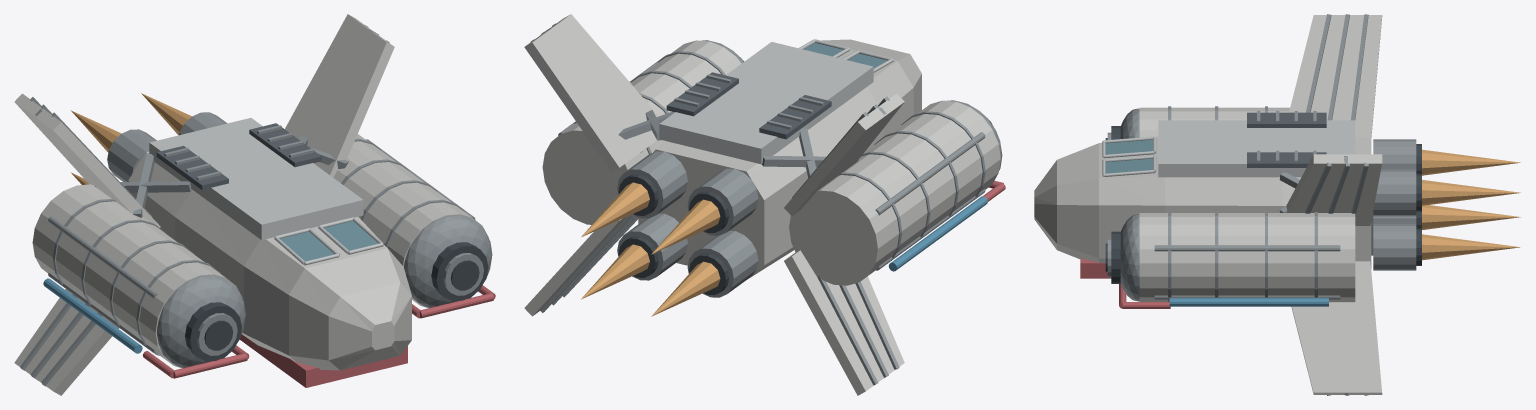
File: earp_white_flight.glb
The picture shows the model from 3 angles, left to right: view 1: azimuth 30°, elevation 25°; view 2: azimuth 150°, elevation 25°; view 3: azimuth 270°, elevation 25°; orthographic projection. The views are drawn at different scales.
Parts seen in each view (by area): view 1: material_0, material_4, material_2, material_1, material_5, material_9, material_3, material_7, material_6; view 2: material_0, material_4, material_2, material_7, material_5, material_9, material_6, material_3; view 3: material_0, material_4, material_2, material_7, material_9, material_5, material_6, material_3, material_1.
Part boxes in pixels (x1,y1,x2,y2): material_0: [14, 14, 488, 395]; material_4: [20, 25, 492, 386]; material_2: [149, 118, 383, 265]; material_1: [143, 285, 495, 387]; material_5: [185, 242, 488, 361]; material_9: [156, 123, 321, 190]; material_3: [280, 221, 377, 261]; material_7: [71, 93, 191, 184]; material_6: [43, 278, 142, 353]; material_0: [524, 14, 1000, 395]; material_4: [530, 23, 1002, 385]; material_2: [659, 39, 893, 163]; material_7: [581, 182, 720, 316]; material_5: [618, 60, 993, 295]; material_9: [666, 72, 831, 139]; material_6: [888, 196, 987, 271]; material_3: [804, 43, 887, 68]; material_0: [1034, 15, 1382, 394]; material_4: [1107, 14, 1416, 395]; material_2: [1102, 120, 1355, 177]; material_7: [1422, 149, 1520, 260]; material_9: [1247, 112, 1326, 167]; material_5: [1105, 126, 1421, 283]; material_6: [1169, 298, 1328, 306]; material_3: [1105, 139, 1152, 173]; material_1: [1080, 258, 1170, 308].
Size of the model in its own units: 3.75 by 2.87 by 5.19.
